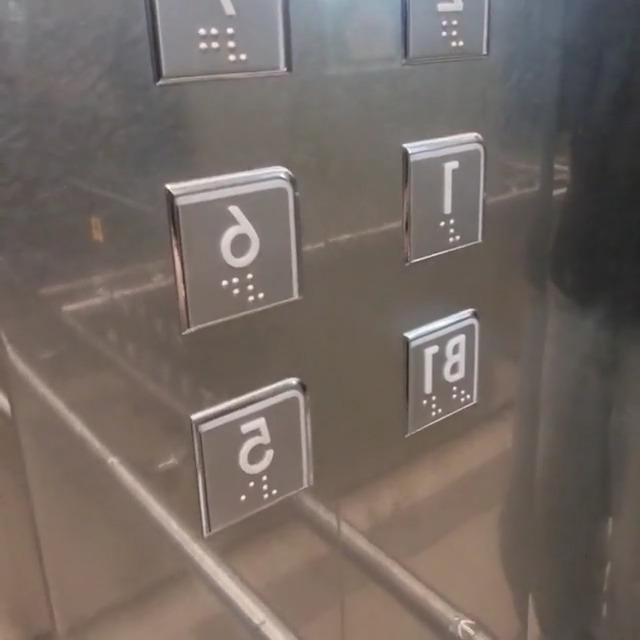button: (174, 162, 297, 331), (202, 373, 312, 533), (377, 126, 479, 255), (395, 303, 488, 435)
